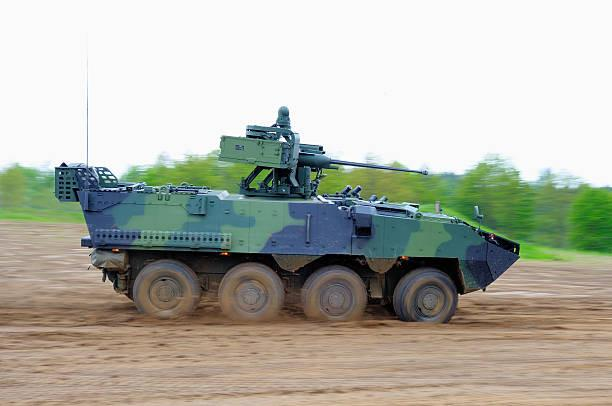tank: (55, 125, 521, 323)
